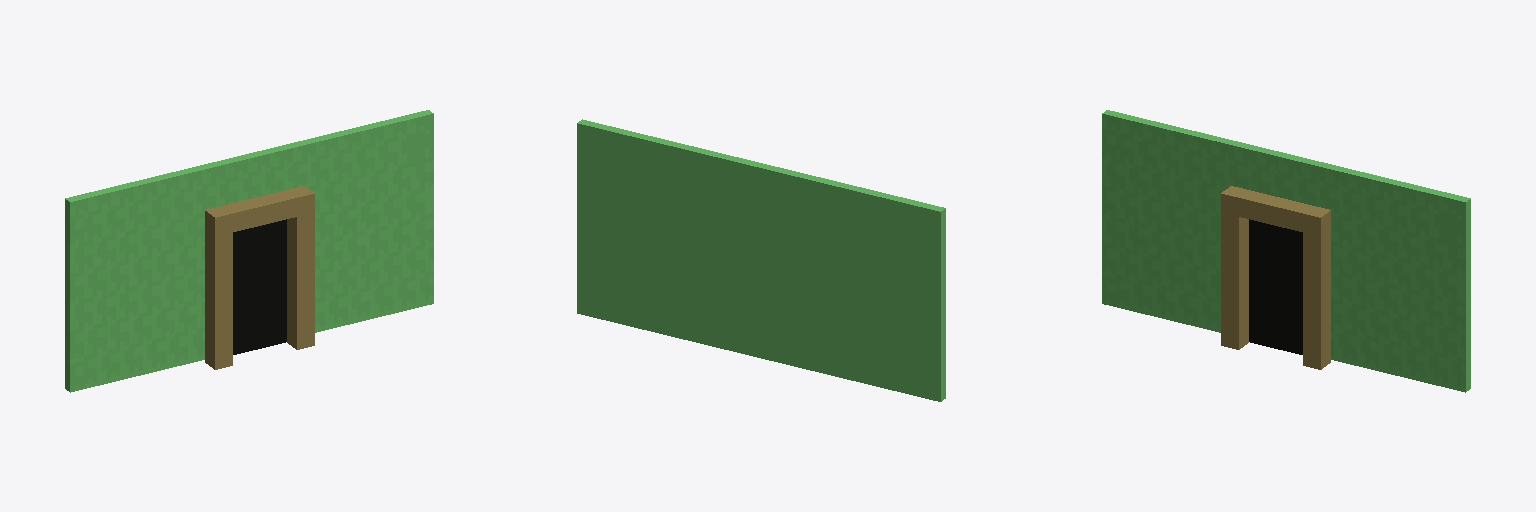
The picture shows the model from 3 angles: view 1: azimuth 30°, elevation 25°; view 2: azimuth 150°, elevation 25°; view 3: azimuth 330°, elevation 25°; orthographic projection.
Parts seen in each view (by area): view 1: BackWall; view 2: BackWall; view 3: BackWall.
Boxes of the visible parts, x1=… form: BackWall: x1=65, y1=110, x2=433, y2=392; BackWall: x1=577, y1=119, x2=945, y2=401; BackWall: x1=1102, y1=110, x2=1470, y2=392.
Size of the model in its own units: 2.5 by 1.25 by 0.2188.
1 materials, 1 textured.